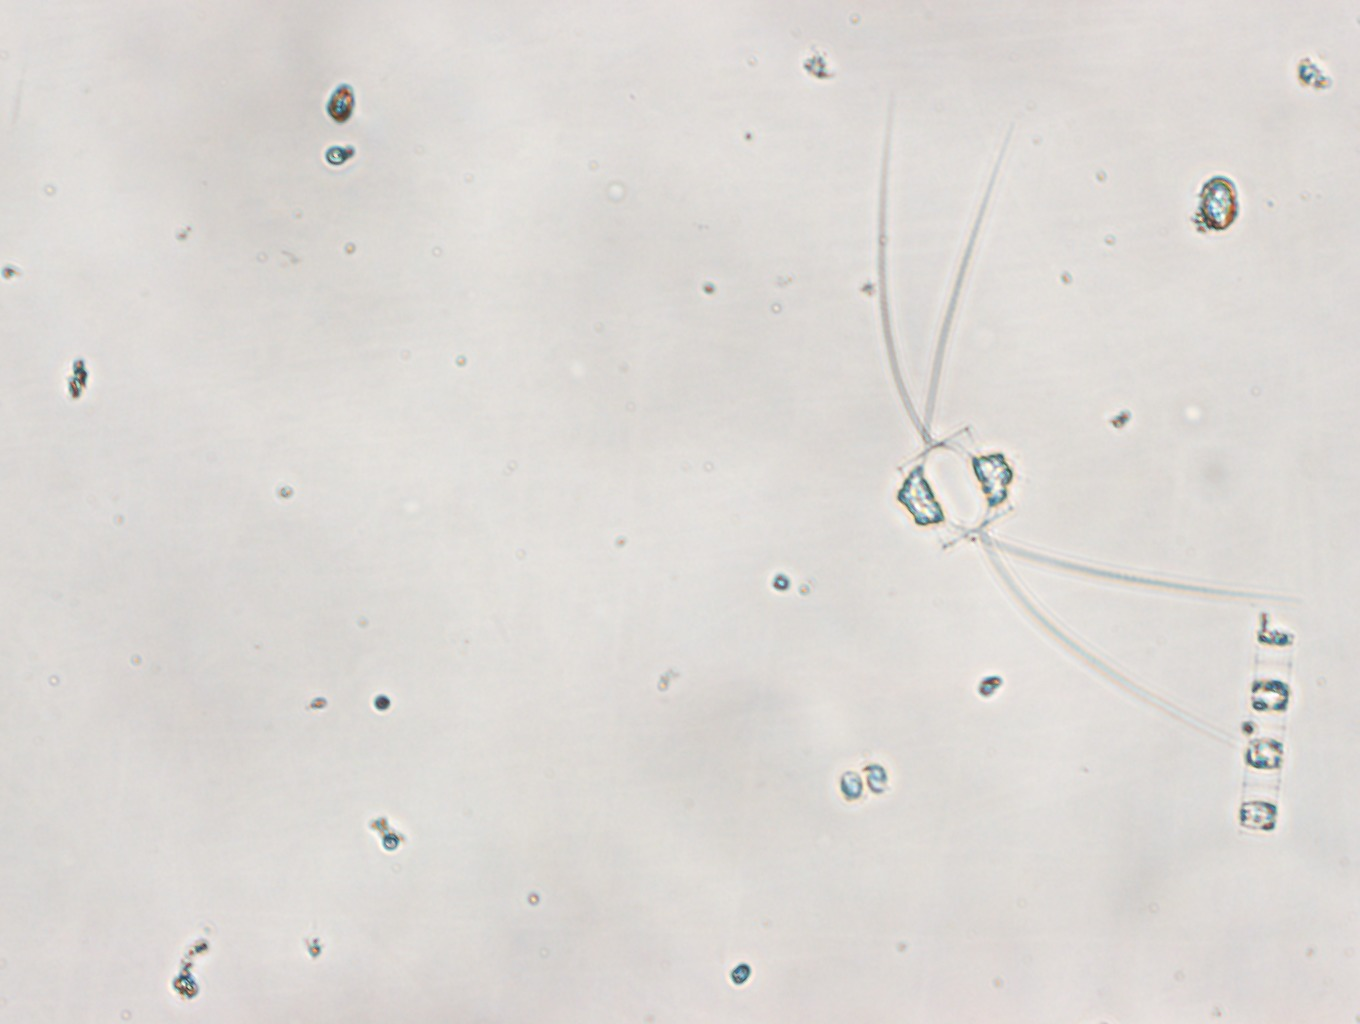chaetoceros: (879, 93, 1300, 752)
skeletonema: (1237, 614, 1297, 834)
